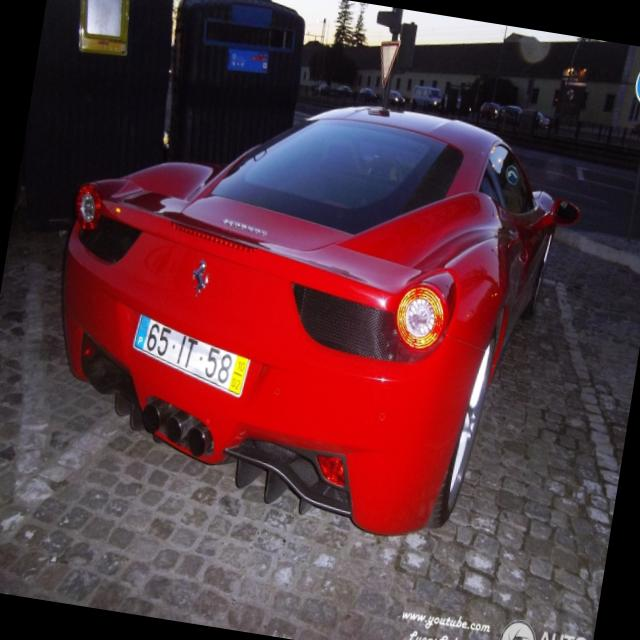portuguese-license-plates: (129, 308, 254, 401)
